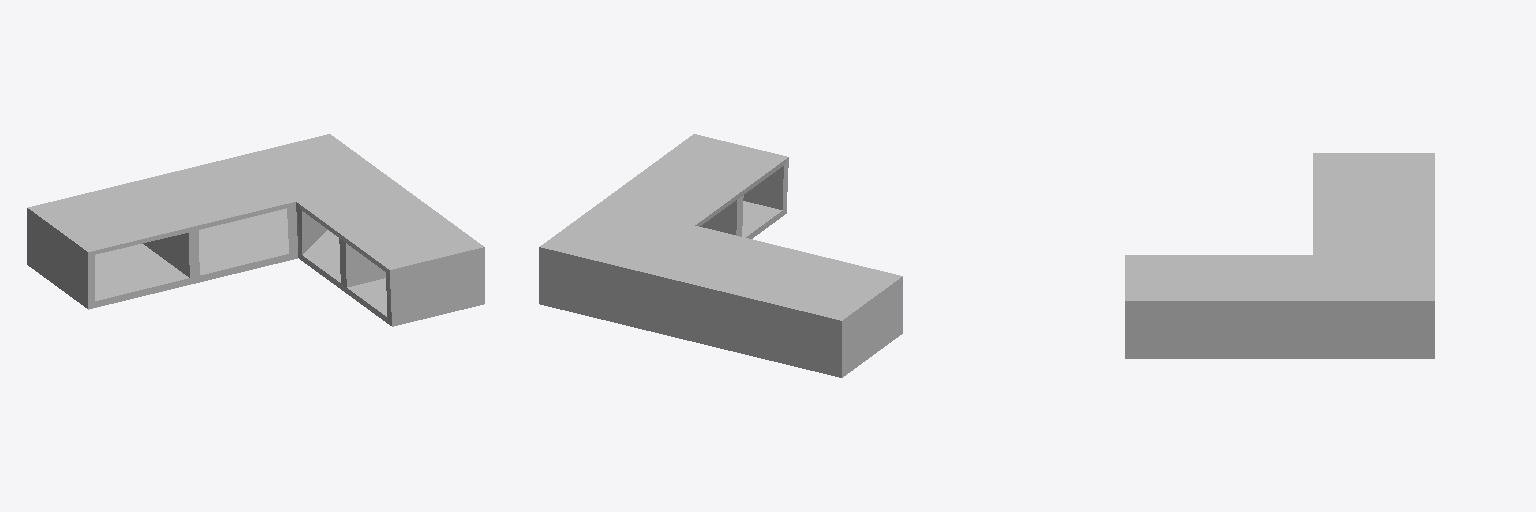
The model's file is under_counter_cupboard_1.obj.
3 renders of one model, left to right at view 1: azimuth 30°, elevation 25°; view 2: azimuth 150°, elevation 25°; view 3: azimuth 270°, elevation 25°, orthographic.
Parts seen in each view (by area): view 1: under_counter_cupboard under_counter_cupboards; view 2: under_counter_cupboard under_counter_cupboards; view 3: under_counter_cupboard under_counter_cupboards.
Part boxes in pixels (left/top/right/bottom): under_counter_cupboard under_counter_cupboards: left=27, top=134, right=484, bottom=326; under_counter_cupboard under_counter_cupboards: left=539, top=134, right=902, bottom=377; under_counter_cupboard under_counter_cupboards: left=1125, top=153, right=1434, bottom=358.
Size of the model in its own units: 26.12 by 4.73 by 23.12.